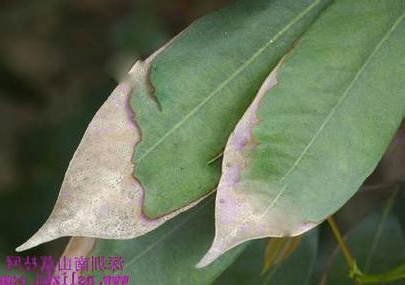Anthracnose: (19, 55, 159, 251), (209, 64, 286, 262)
